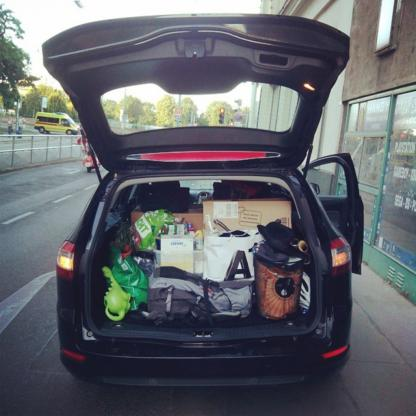Car: (42, 19, 358, 398)
